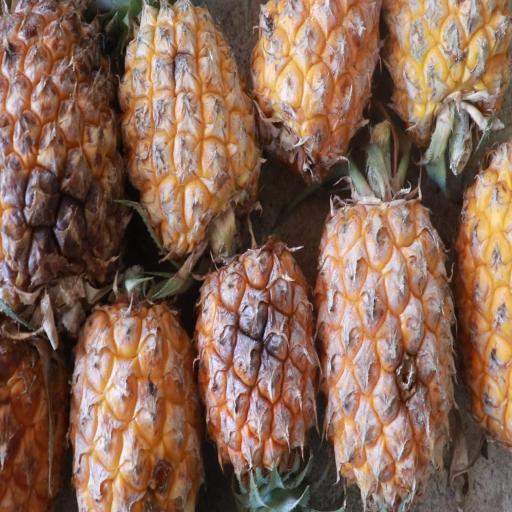Pineapple - v8 v1: (311, 161, 459, 512), (0, 0, 133, 322), (116, 0, 267, 259), (67, 267, 208, 512), (190, 225, 320, 490), (246, 0, 382, 191), (381, 0, 512, 155)
